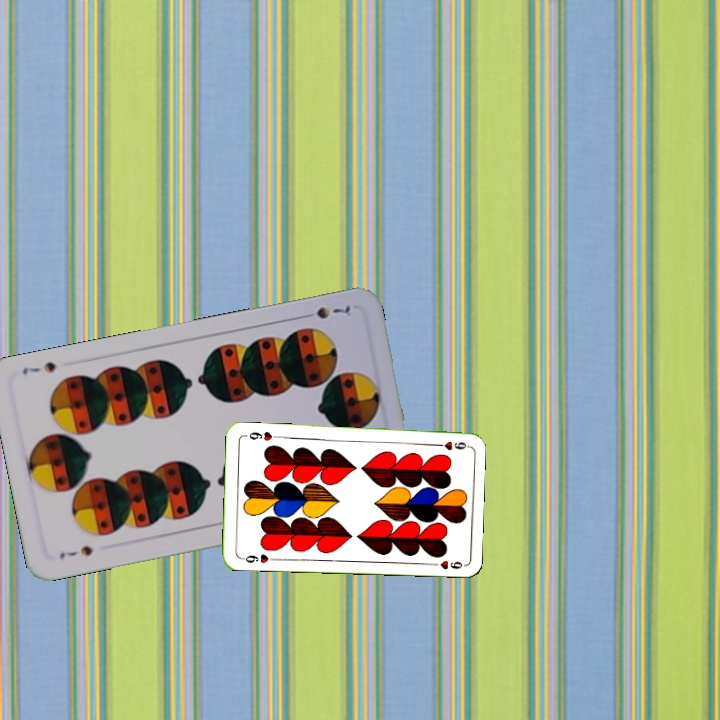H9: (237, 550, 277, 566), (429, 437, 469, 452)
S7: (297, 300, 353, 322), (55, 541, 96, 562)
